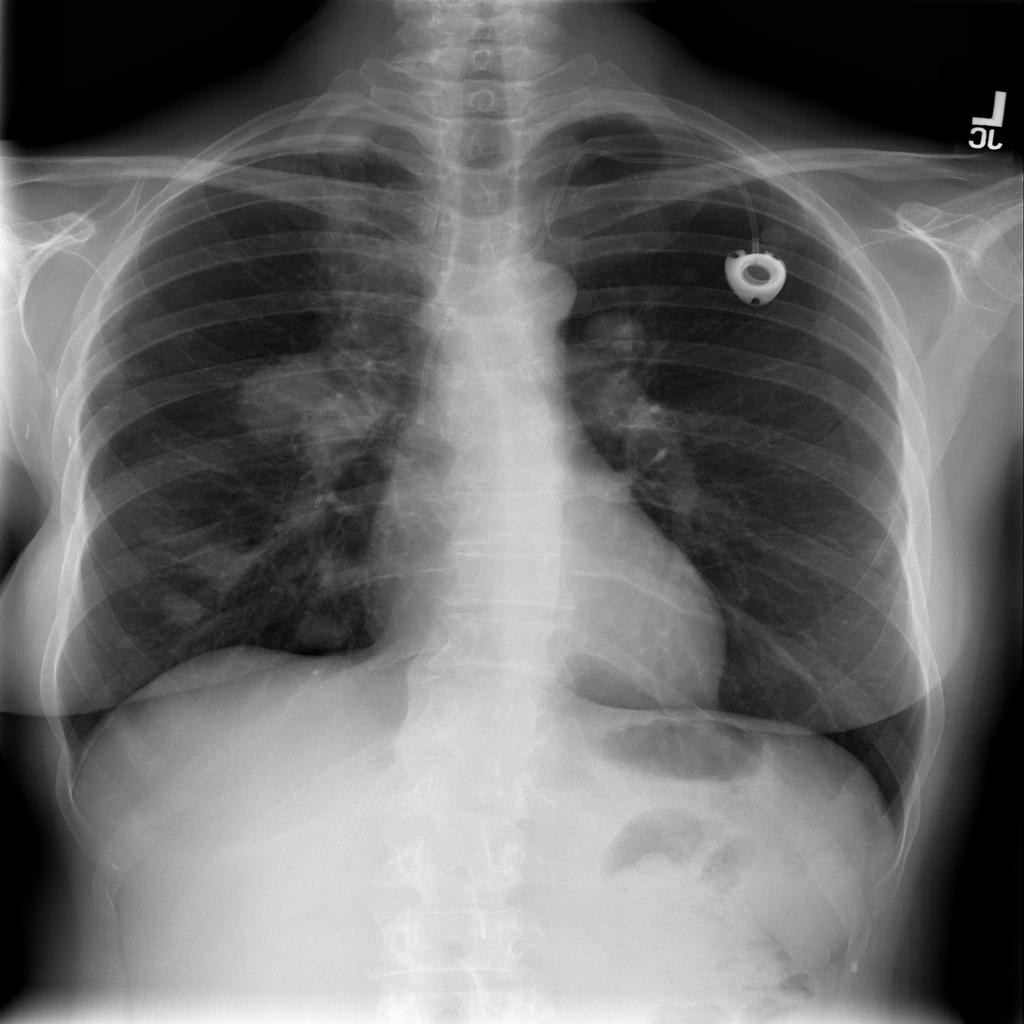nodule: (206, 345, 397, 462), (279, 595, 362, 666), (180, 529, 264, 598), (574, 301, 666, 363), (141, 578, 227, 638), (837, 519, 912, 586), (99, 619, 156, 660)
